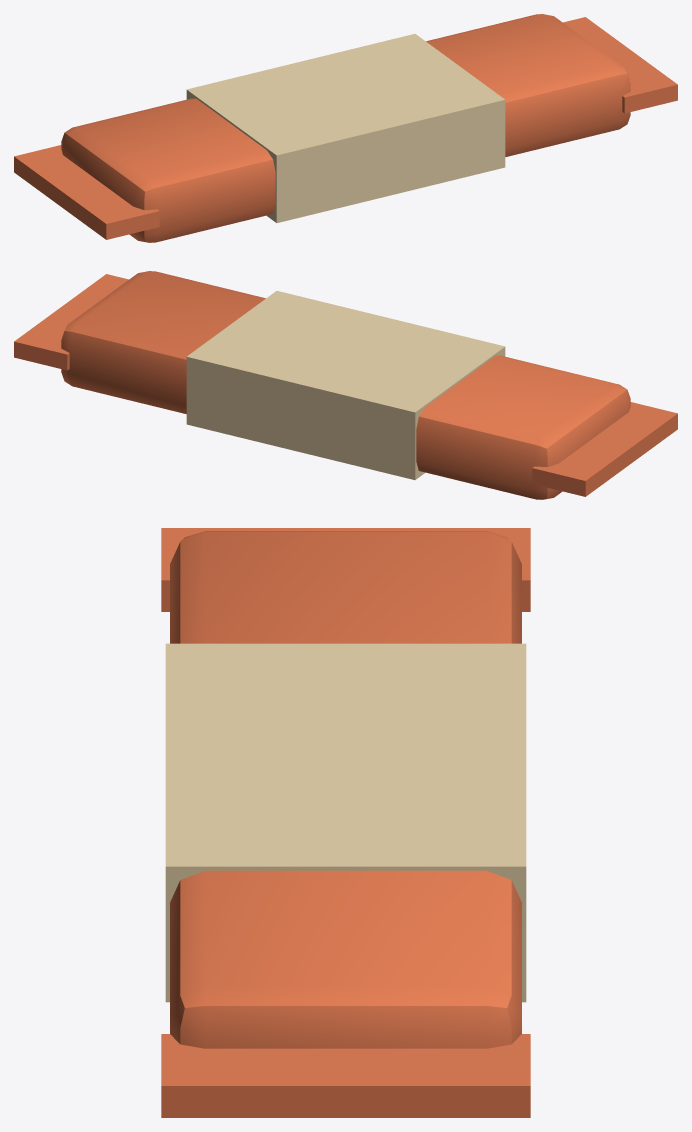
File: SM_EnergyBar.fbx
The picture shows the model from 3 angles, top to bottom: view 1: azimuth 30°, elevation 25°; view 2: azimuth 150°, elevation 25°; view 3: azimuth 270°, elevation 25°; orthographic projection. The views are drawn at different scales.
Visible parts, largest first — view 1: SM_EnergyBar; view 2: SM_EnergyBar; view 3: SM_EnergyBar.
Part boxes in pixels (<box>): SM_EnergyBar: <box>14,14,677,242</box>; SM_EnergyBar: <box>14,271,677,499</box>; SM_EnergyBar: <box>161,528,530,1117</box>.
Bounding box in the file's own units: 15 × 1.7 × 4.2.
